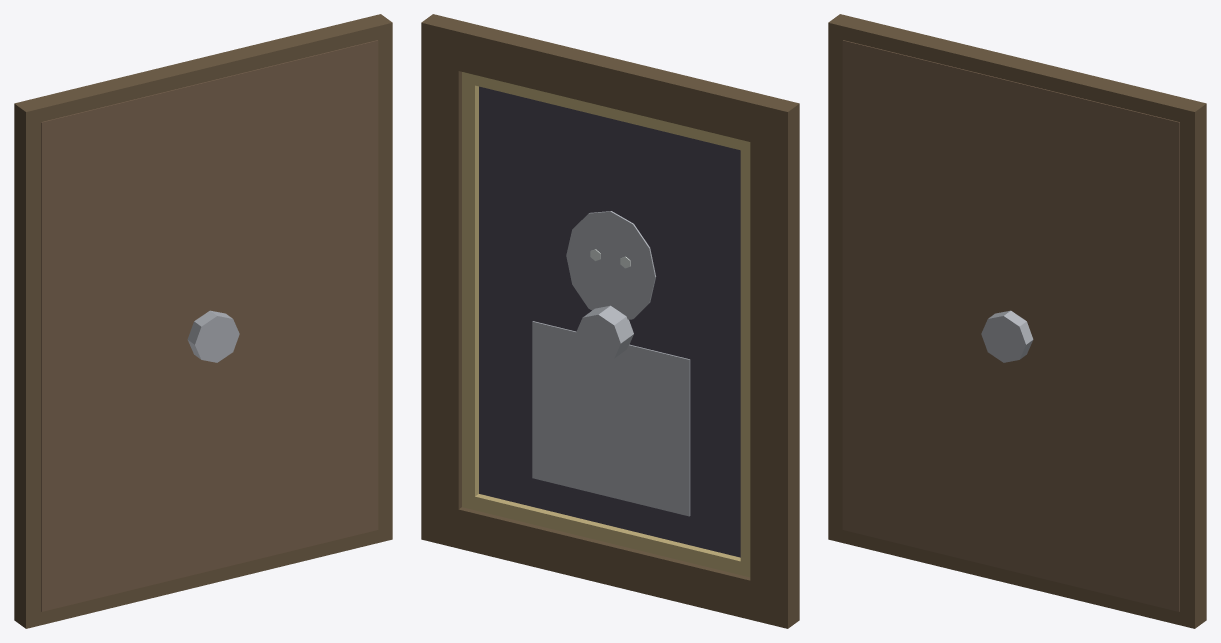
The model's file is painting.glb.
3 views of the same model, side by side, from view 1: azimuth 30°, elevation 25°; view 2: azimuth 150°, elevation 25°; view 3: azimuth 330°, elevation 25° (orthographic).
Visible parts, largest first — view 1: Painting; view 2: Painting; view 3: Painting.
Boxes of the visible parts, x1,y1,x2,y2 form: Painting: (14,14,392,628); Painting: (421,14,799,628); Painting: (828,14,1206,628).
Bounding box in the file's own units: 0.98 × 1.32 × 0.12.
